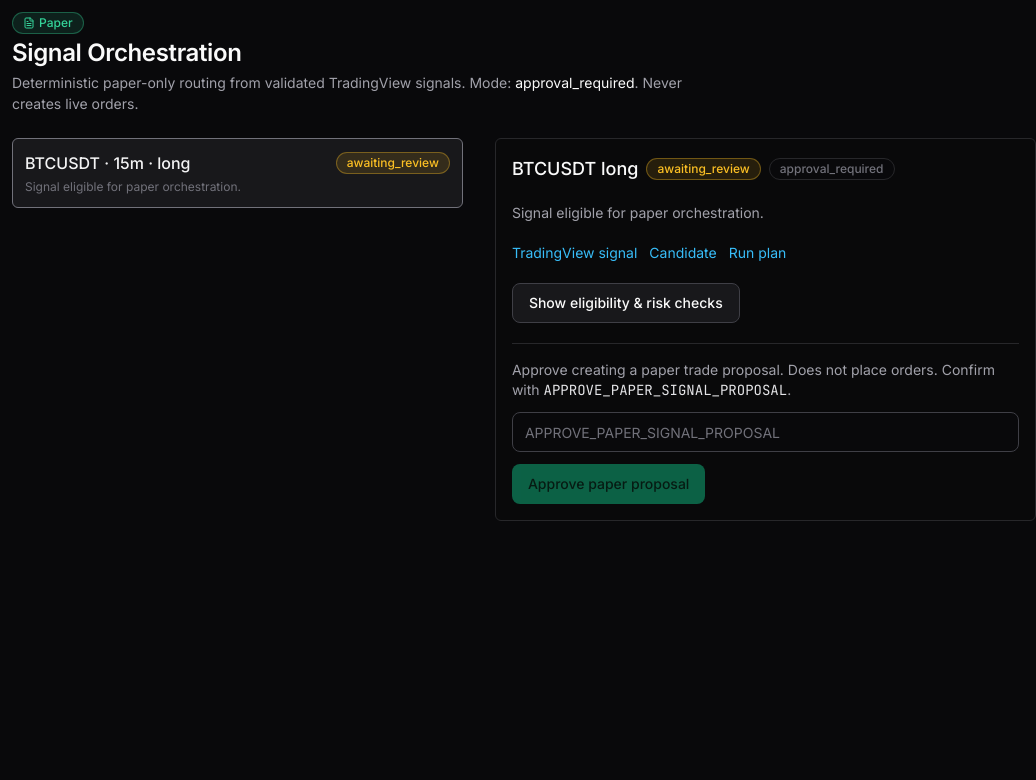
Scenario: PaperSignalOrchestrationPage › renders queue and progressive disclosure for checks
Check: the element with test id "paper-signal-orch-queue" is shown, box x1=12 y1=138 x2=463 y2=208
Check: the element with test id "paper-signal-orch-detail" shows "BTCUSDT", box x1=512 y1=158 x2=596 y2=179
Click the button "Show eligibility & risk checks" at (626, 303), box x1=512 y1=283 x2=740 y2=323
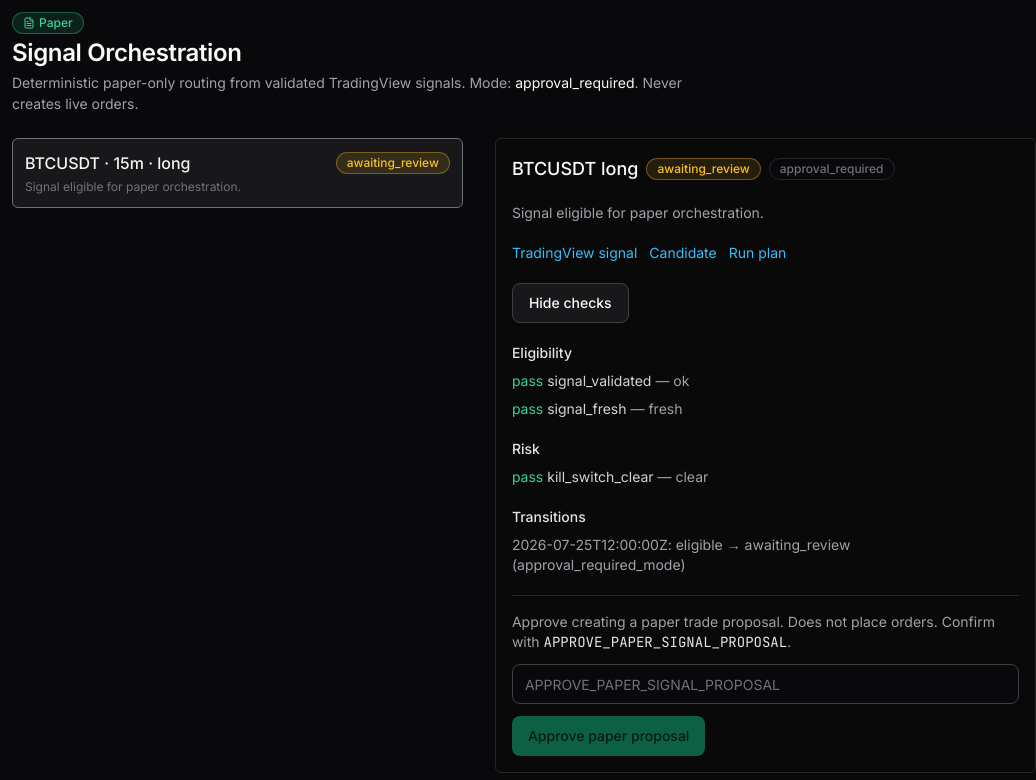
Check: the element with test id "paper-signal-orch-checks" is shown, box x1=512 y1=344 x2=850 y2=573
Check: the text "kill_switch_clear" is shown, box x1=547 y1=468 x2=654 y2=485
